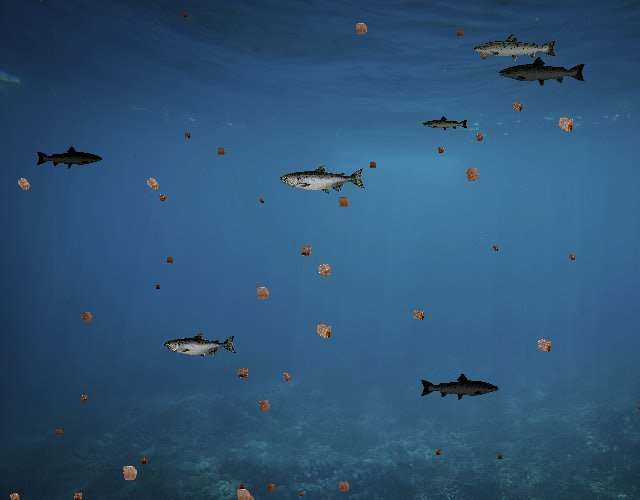Fish: (498, 56, 588, 88), (472, 32, 558, 63), (280, 164, 366, 195), (420, 373, 501, 402), (165, 332, 238, 359), (35, 146, 103, 170), (422, 116, 469, 133)
Pellet: (114, 457, 144, 488), (249, 279, 276, 306), (349, 16, 374, 41), (232, 362, 254, 384), (3, 487, 26, 500), (366, 158, 380, 172), (181, 129, 194, 142)
